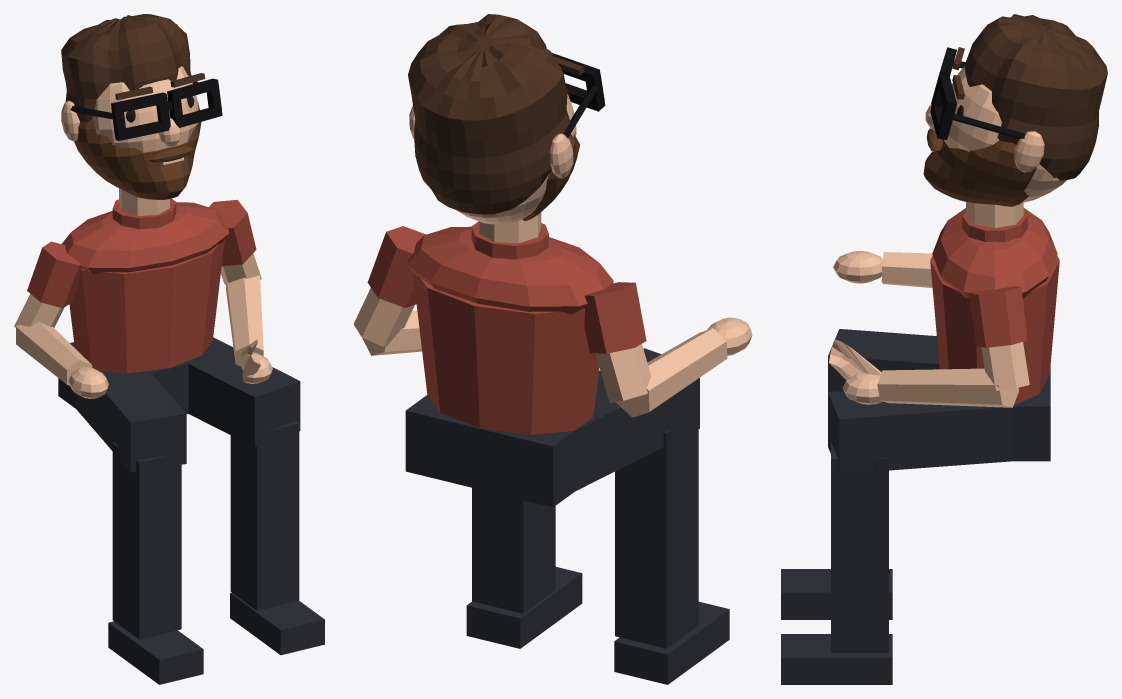
File: avatar.glb
The picture shows the model from 3 angles, left to right: view 1: azimuth 30°, elevation 25°; view 2: azimuth 150°, elevation 25°; view 3: azimuth 270°, elevation 25°; orthographic projection. The views are drawn at different scales.
Parts seen in each view (by area): view 1: avatar.avatar-trousers, avatar.avatar-shirt, avatar.avatar-hair, avatar.avatar-skin, avatar.avatar-beard, avatar.arm.avatar-skin, avatar.avatar-glasses, avatar.arm.avatar-shirt; view 2: avatar.avatar-trousers, avatar.avatar-shirt, avatar.avatar-hair, avatar.arm.avatar-skin, avatar.avatar-skin, avatar.arm.avatar-shirt, avatar.avatar-glasses, avatar.avatar-beard; view 3: avatar.avatar-trousers, avatar.avatar-shirt, avatar.avatar-hair, avatar.avatar-skin, avatar.avatar-beard, avatar.arm.avatar-skin, avatar.avatar-glasses.
Boxes of the visible parts, left/top/right/bottom form: avatar.avatar-trousers: left=58, top=337, right=324, bottom=684; avatar.avatar-shirt: left=62, top=198, right=256, bottom=373; avatar.avatar-hair: left=61, top=14, right=205, bottom=122; avatar.avatar-skin: left=61, top=66, right=272, bottom=383; avatar.avatar-beard: left=74, top=102, right=201, bottom=199; avatar.arm.avatar-skin: left=14, top=294, right=108, bottom=398; avatar.avatar-glasses: left=70, top=78, right=222, bottom=140; avatar.arm.avatar-shirt: left=27, top=241, right=81, bottom=308; avatar.avatar-trousers: left=405, top=348, right=729, bottom=684; avatar.avatar-shirt: left=367, top=221, right=613, bottom=434; avatar.avatar-hair: left=408, top=14, right=584, bottom=214; avatar.arm.avatar-skin: left=596, top=317, right=752, bottom=417; avatar.avatar-skin: left=353, top=94, right=576, bottom=355; avatar.arm.avatar-shirt: left=584, top=282, right=646, bottom=353; avatar.avatar-glasses: left=552, top=53, right=605, bottom=138; avatar.avatar-beard: left=522, top=134, right=579, bottom=220; avatar.avatar-trousers: left=781, top=329, right=1050, bottom=684; avatar.avatar-shirt: left=930, top=208, right=1059, bottom=405; avatar.avatar-hair: left=952, top=14, right=1107, bottom=180; avatar.avatar-skin: left=829, top=65, right=1066, bottom=407; avatar.avatar-beard: left=923, top=128, right=1037, bottom=206; avatar.arm.avatar-skin: left=833, top=251, right=932, bottom=287; avatar.avatar-glasses: left=930, top=47, right=1025, bottom=139.
Size of the model in its own units: 0.6869 by 1.47 by 0.7029.
